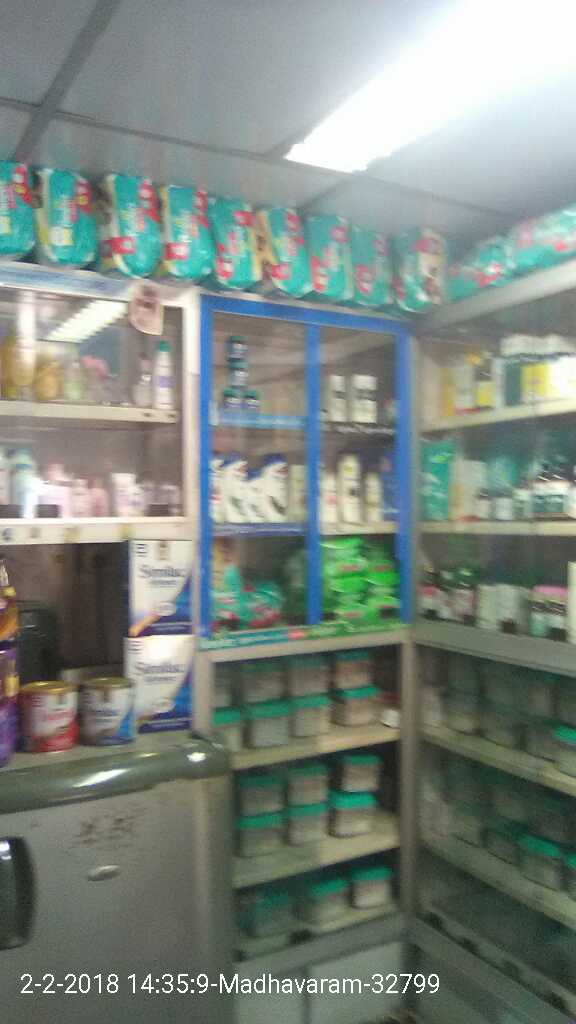vicks: (212, 324, 256, 413)
